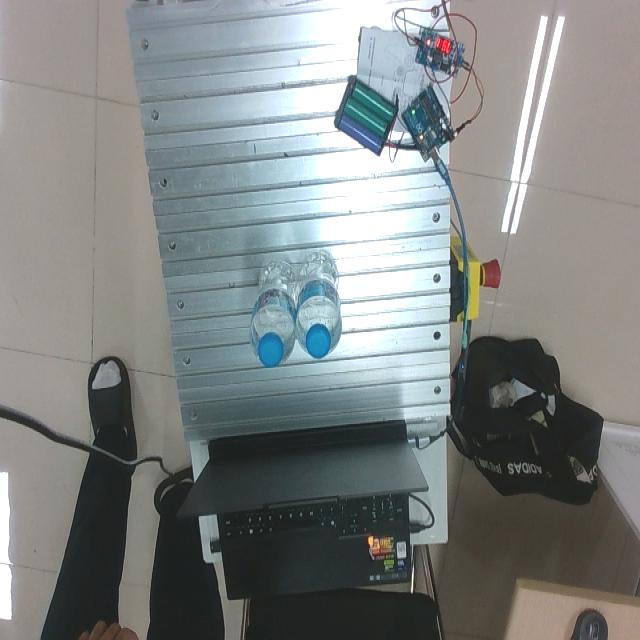lavie: (293, 252, 343, 360), (250, 260, 299, 368)
